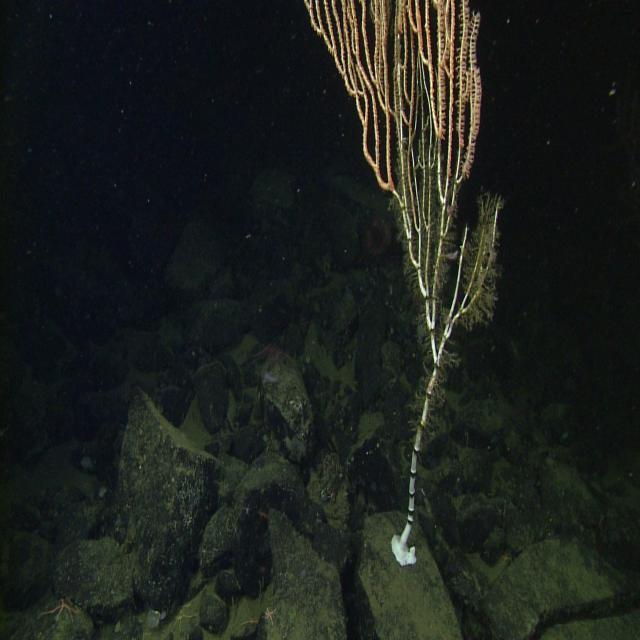Brittle Star: (38, 592, 82, 633)
Not Brittle Star: (297, 4, 511, 572)
